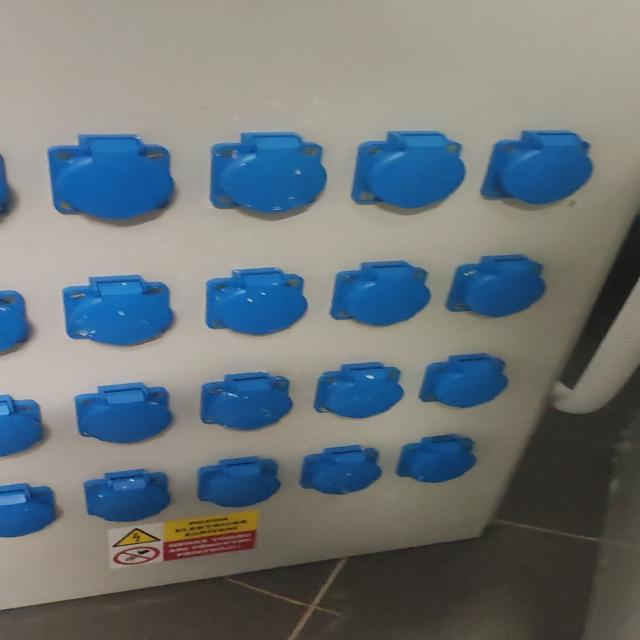house plug covered: (47, 134, 176, 220), (209, 132, 328, 214), (350, 130, 468, 209), (480, 130, 595, 204), (62, 274, 175, 346), (205, 267, 308, 334), (329, 260, 431, 326), (445, 255, 548, 317), (76, 385, 171, 446), (200, 372, 293, 431), (313, 361, 404, 419), (419, 353, 510, 409), (83, 469, 171, 522), (299, 445, 382, 498), (198, 456, 281, 508), (396, 436, 477, 485), (0, 393, 51, 458), (0, 484, 59, 540)
